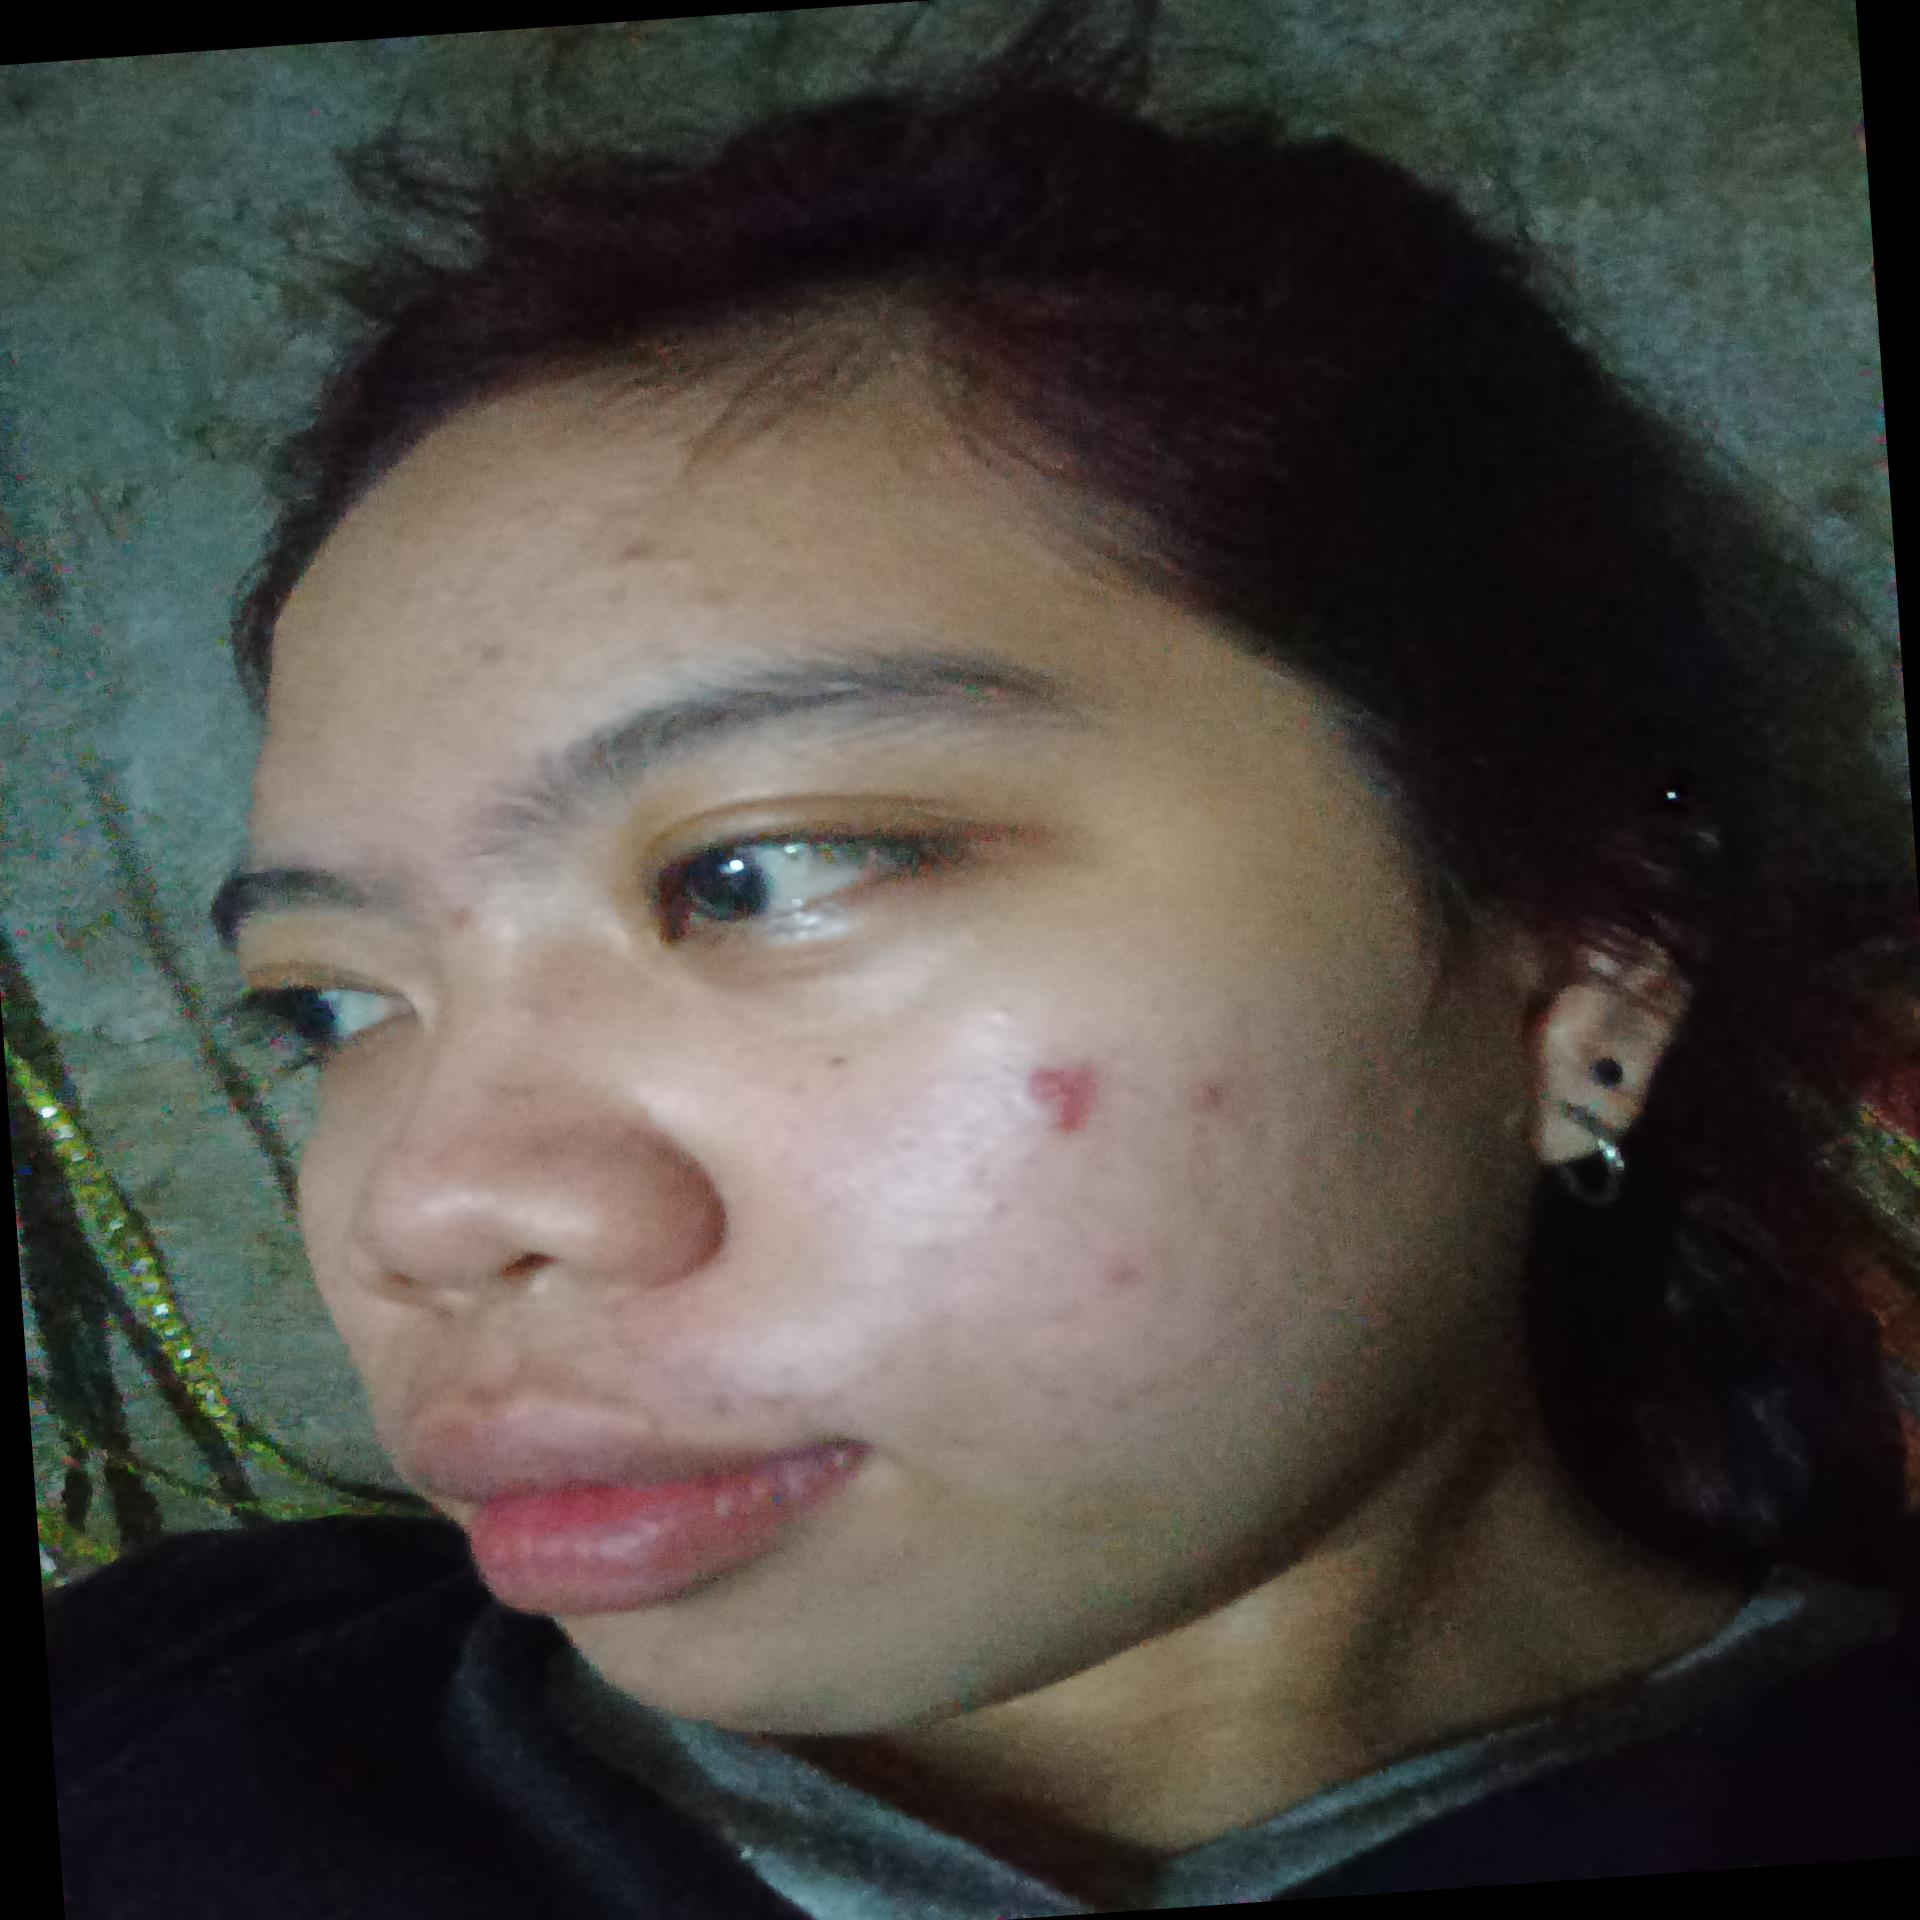Acne: (695, 1375, 862, 1428), (1016, 1053, 1106, 1145), (1180, 1076, 1234, 1116), (471, 635, 512, 675), (607, 538, 658, 566), (1101, 1259, 1145, 1289), (443, 898, 478, 935), (603, 585, 633, 612)
Blackhead: (1173, 1050, 1384, 1287), (823, 1058, 1030, 1292), (1025, 1349, 1189, 1424), (976, 1000, 1023, 1034)
Dark Circles: (654, 872, 983, 1002)
